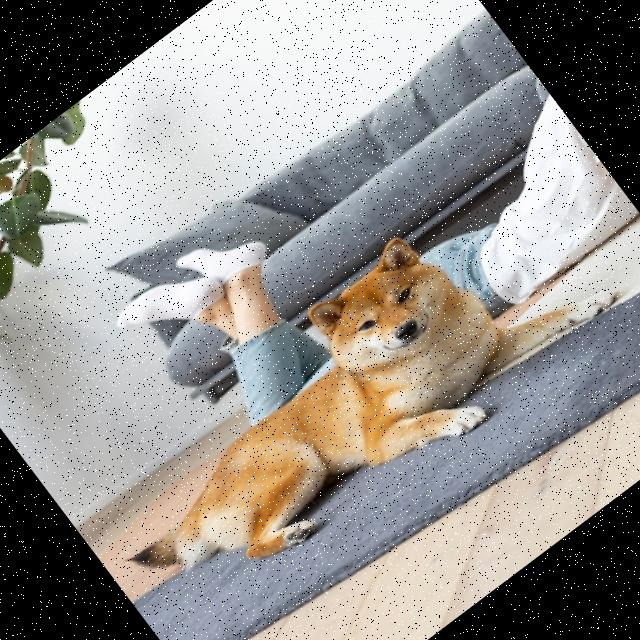Dog: (68, 147, 633, 640)
